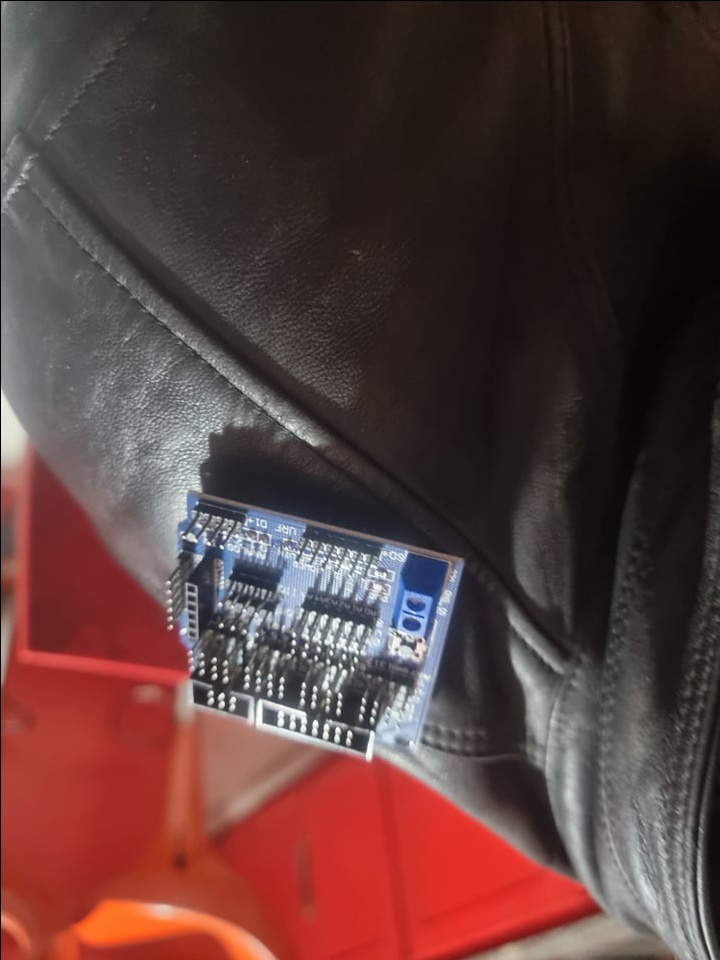5V EXPANSION: (159, 488, 469, 761)
